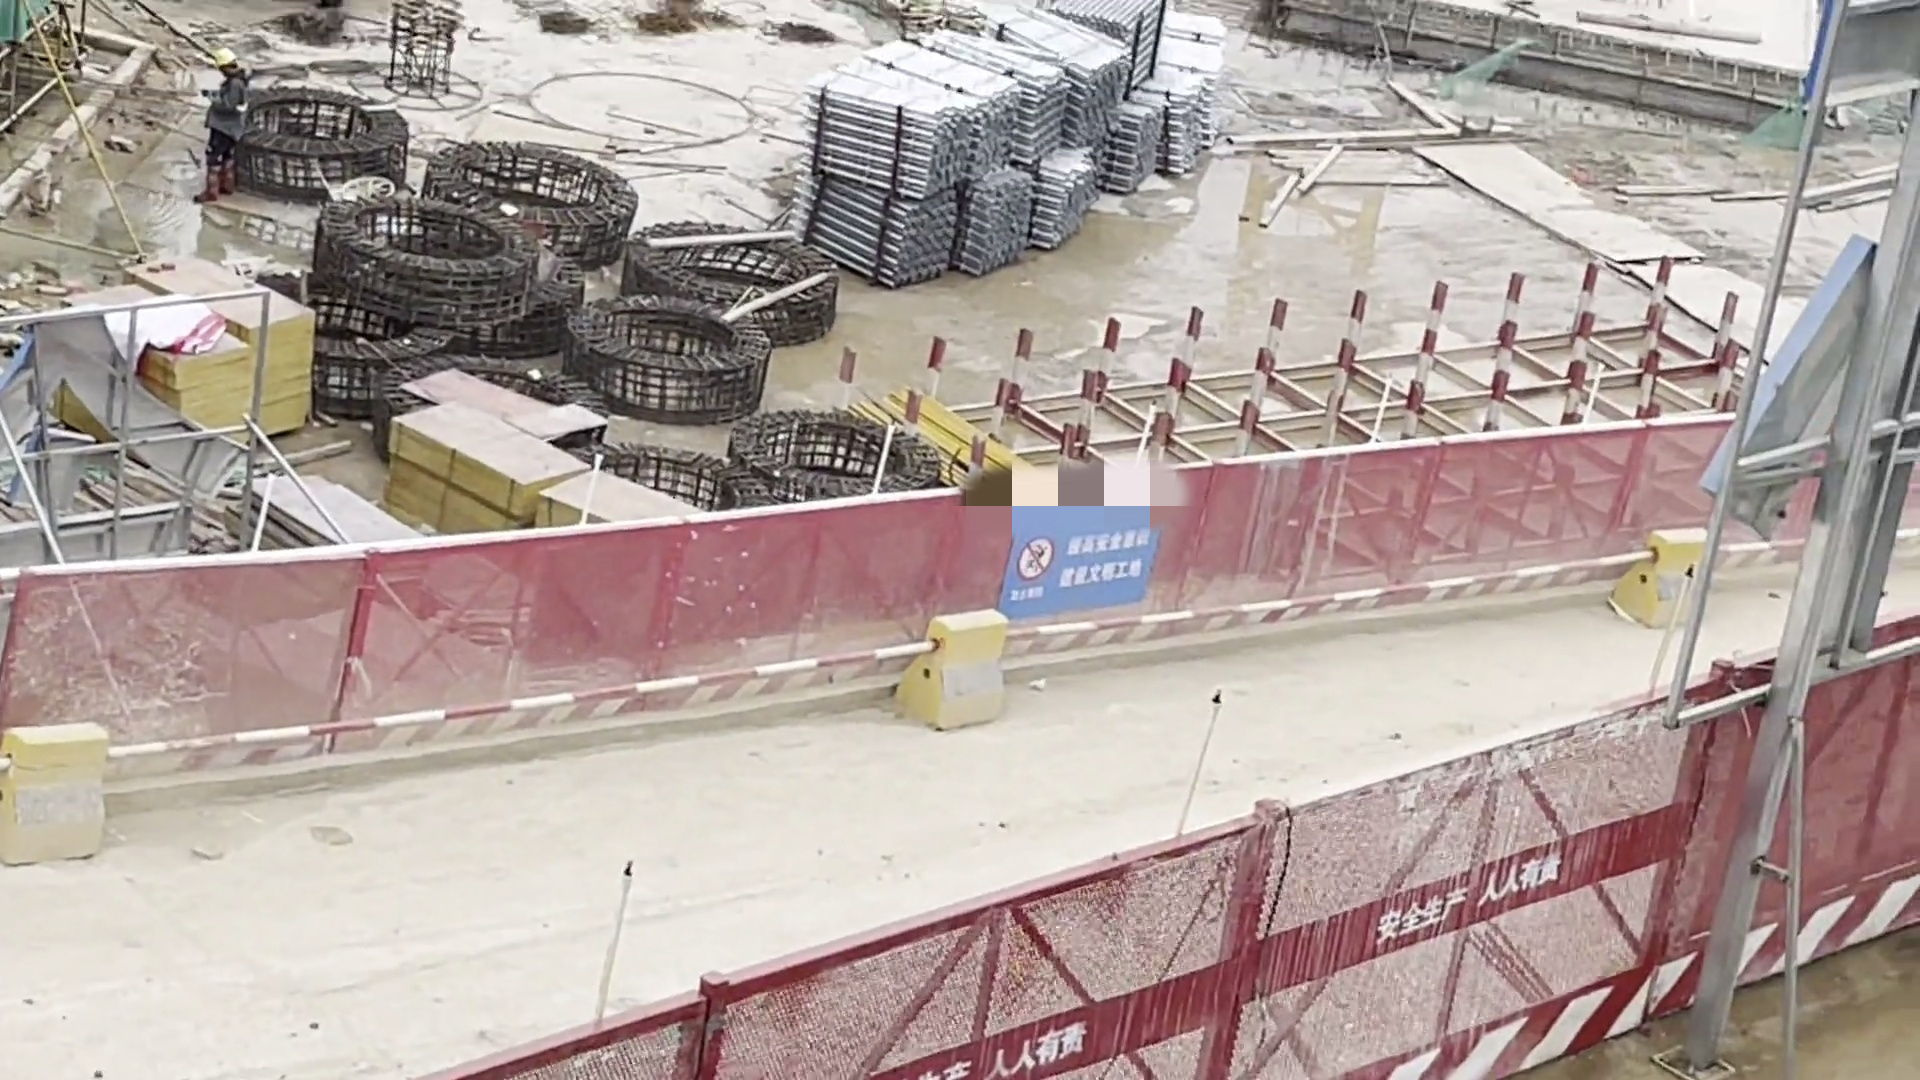board: (94, 245, 334, 454)
fence: (49, 414, 1783, 731), (404, 731, 1825, 1080)
scaffold: (802, 67, 1104, 287), (996, 7, 1216, 179)
slogan: (53, 253, 316, 443), (392, 386, 694, 541), (1002, 496, 1163, 615)
